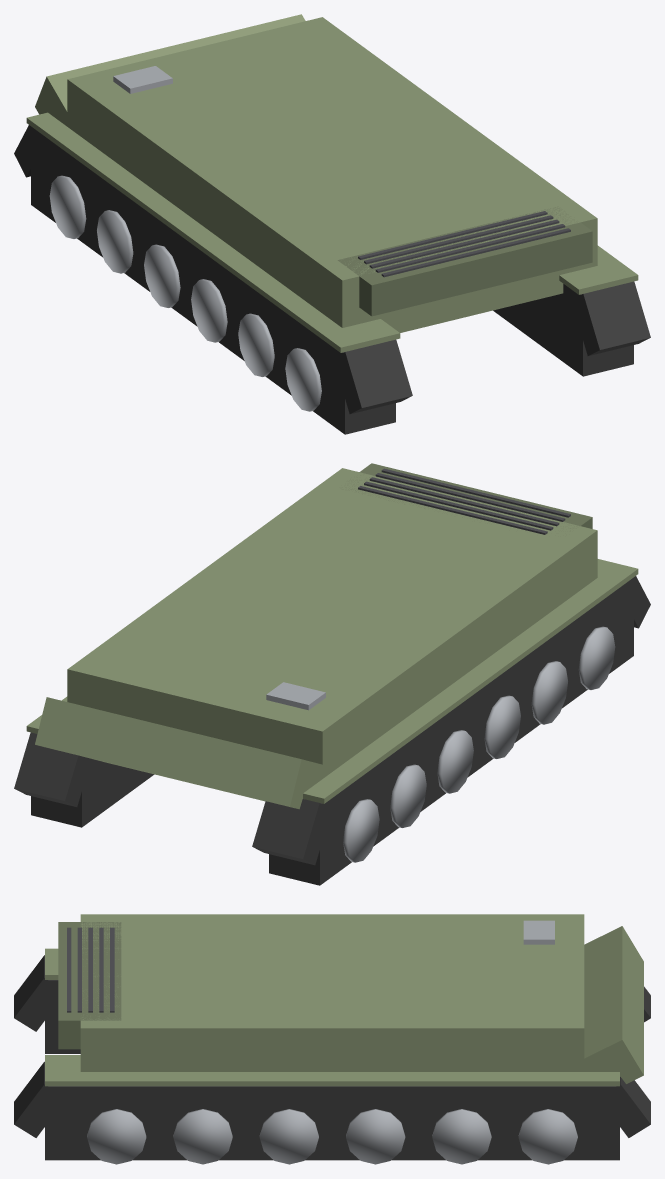
File: tank_hull.gltf
3 views of the same model, one above another, from view 1: azimuth 30°, elevation 25°; view 2: azimuth 150°, elevation 25°; view 3: azimuth 270°, elevation 25° (orthographic). The views are drawn at different scales.
Parts seen in each view (by area): view 1: tank_hull; view 2: tank_hull; view 3: tank_hull.
Part boxes in pixels (bbox=[...]): tank_hull: bbox=[14, 14, 650, 434]; tank_hull: bbox=[14, 463, 650, 885]; tank_hull: bbox=[14, 914, 650, 1164].
Bounding box in the file's own units: 3.5 × 1.64 × 7.09.
